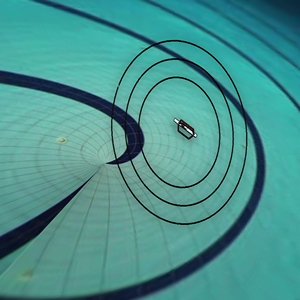circle: (97, 33, 253, 232)
submarine: (167, 109, 202, 148)
